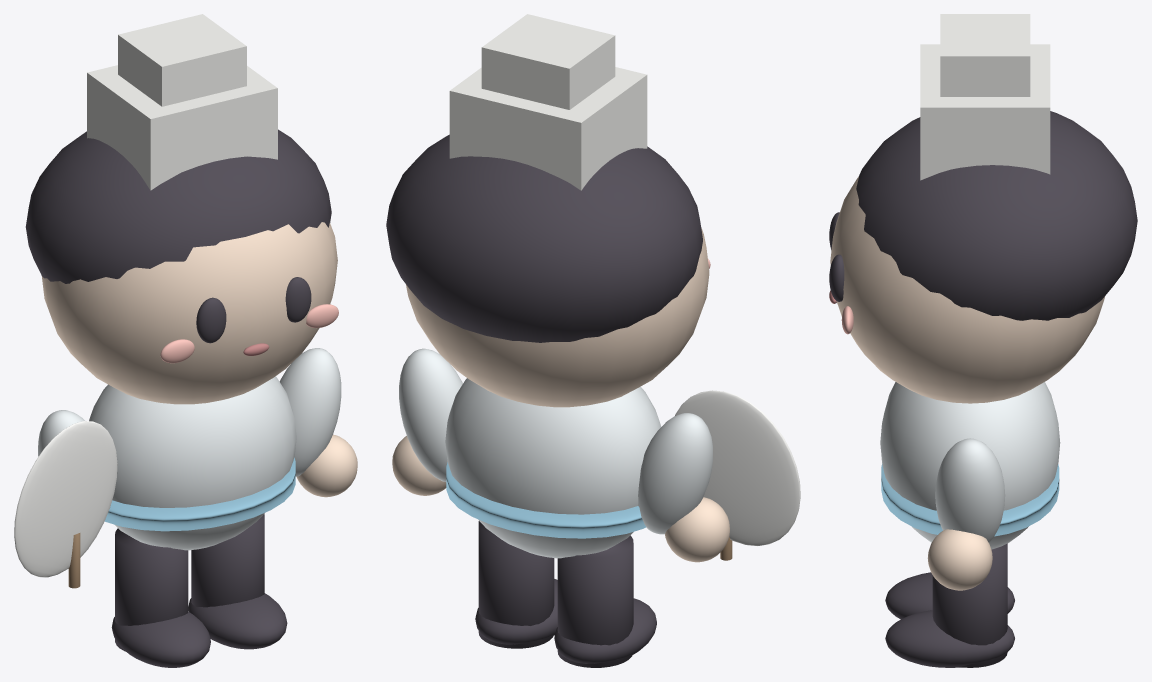
Rendered from zhugeliang.fbx.
3 renders of one model, left to right at view 1: azimuth 30°, elevation 25°; view 2: azimuth 150°, elevation 25°; view 3: azimuth 270°, elevation 25°, orthographic. The views are drawn at different scales.
Visible parts, largest first — view 1: head_mesh, hair, body, hat, wp_fan, hat_top, leg, arm_mesh, leg.001, belt, shoe, shoe.001 (+7 smaller); view 2: hair, body, head_mesh, hat, wp_fan, hat_top, leg, arm_mesh.001, leg.001, arm_mesh, belt, hand_mesh.001 (+3 smaller); view 3: hair, head_mesh, body, hat, hat_top, arm_mesh, leg.001, shoe.001, hand_mesh, belt, shoe, eye.001.
Boxes of the visible parts, bbox=[...] form: head_mesh: bbox=[42, 222, 337, 404]; hair: bbox=[25, 129, 331, 283]; body: bbox=[89, 376, 296, 550]; hat: bbox=[87, 65, 277, 190]; wp_fan: bbox=[14, 421, 117, 577]; hat_top: bbox=[118, 14, 246, 106]; leg: bbox=[115, 528, 188, 651]; arm_mesh: bbox=[279, 348, 341, 476]; leg.001: bbox=[191, 514, 264, 607]; belt: bbox=[104, 457, 295, 531]; shoe: bbox=[111, 612, 210, 667]; shoe.001: bbox=[188, 593, 287, 649]; hair: bbox=[386, 134, 702, 342]; body: bbox=[445, 378, 661, 558]; head_mesh: bbox=[406, 228, 709, 407]; hat: bbox=[449, 67, 647, 190]; wp_fan: bbox=[675, 390, 800, 545]; hat_top: bbox=[481, 14, 615, 109]; leg: bbox=[557, 535, 633, 667]; arm_mesh.001: bbox=[638, 413, 712, 534]; leg.001: bbox=[478, 521, 554, 648]; arm_mesh: bbox=[399, 348, 462, 481]; belt: bbox=[446, 462, 646, 538]; hand_mesh.001: bbox=[665, 497, 729, 562]; hair: bbox=[856, 111, 1137, 320]; head_mesh: bbox=[830, 176, 1104, 403]; body: bbox=[880, 382, 1060, 549]; hat: bbox=[920, 44, 1050, 180]; hat_top: bbox=[940, 14, 1030, 96]; arm_mesh: bbox=[935, 438, 1005, 542]; leg.001: bbox=[932, 543, 1007, 667]; shoe.001: bbox=[885, 610, 1014, 667]; hand_mesh: bbox=[927, 529, 992, 590]; belt: bbox=[881, 463, 1059, 536]; shoe: bbox=[885, 572, 1014, 619]; eye.001: bbox=[829, 254, 844, 301].
Bounding box in the file's own units: 0.8608 × 1.34 × 0.617.
